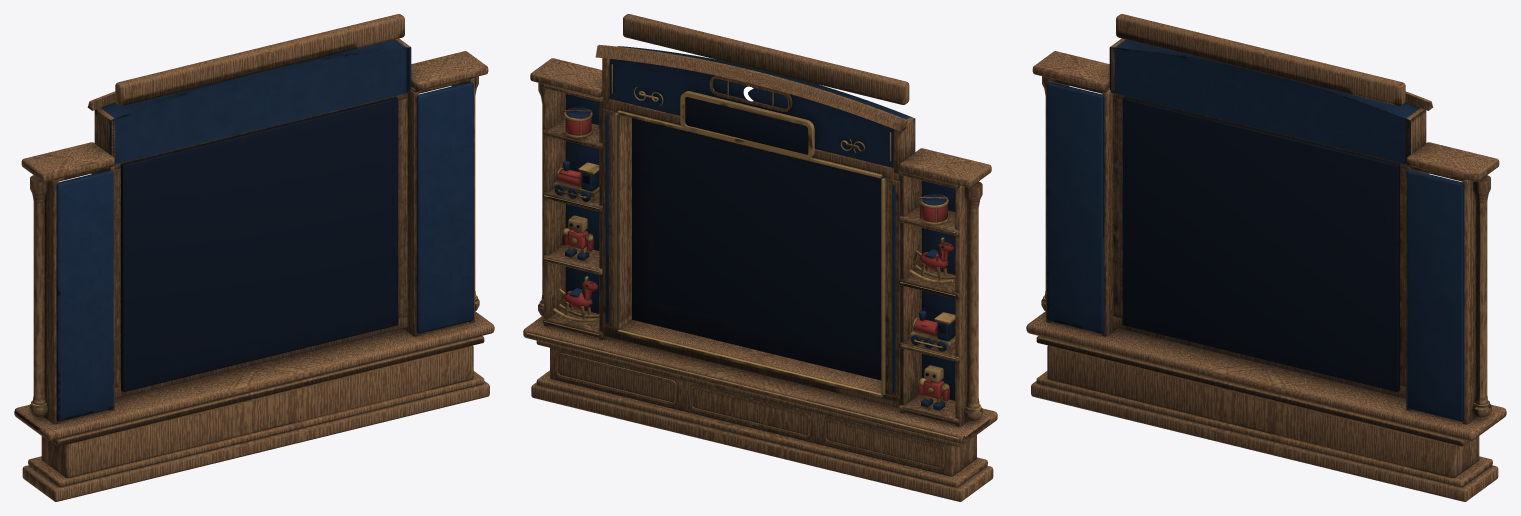
3 renders of one model, left to right at view 1: azimuth 30°, elevation 25°; view 2: azimuth 150°, elevation 25°; view 3: azimuth 330°, elevation 25°, orthographic.
Visible parts, largest first — view 1: Honey_walnut, Flat_dark_inset, Midnight_enamel; view 2: Honey_walnut, Flat_dark_inset, Midnight_enamel, Soft_antique_brass, Tin_crimson_enamel; view 3: Honey_walnut, Flat_dark_inset, Midnight_enamel.
Boxes of the visible parts, x1=… form: Honey_walnut: x1=14, y1=14, x2=494, y2=501; Flat_dark_inset: x1=121, y1=97, x2=398, y2=391; Midnight_enamel: x1=56, y1=39, x2=473, y2=421; Honey_walnut: x1=523, y1=14, x2=997, y2=501; Flat_dark_inset: x1=569, y1=97, x2=945, y2=380; Midnight_enamel: x1=554, y1=46, x2=955, y2=410; Soft_antique_brass: x1=526, y1=64, x2=981, y2=439; Tin_crimson_enamel: x1=558, y1=117, x2=953, y2=401; Honey_walnut: x1=1026, y1=14, x2=1506, y2=501; Flat_dark_inset: x1=1122, y1=97, x2=1399, y2=391; Midnight_enamel: x1=1047, y1=39, x2=1464, y2=421.
Size of the model in its own units: 11.48 by 9.6 by 1.64.
6 materials, 5 textured.
